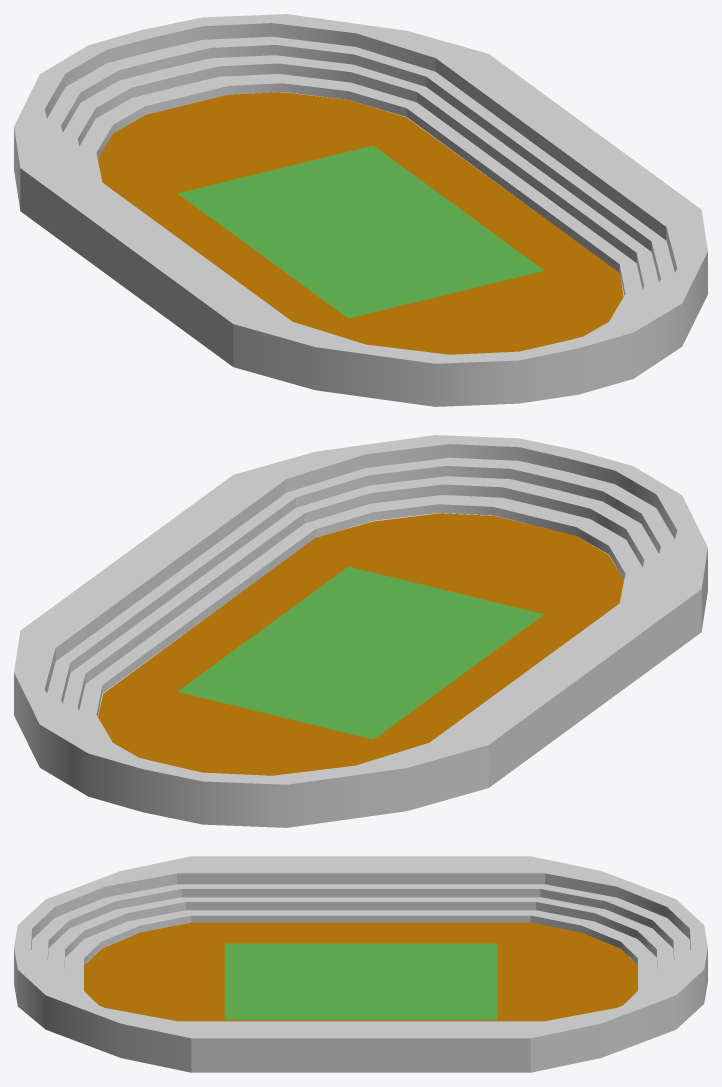
File: Stadium.fbx
3 views of the same model, one above another, from view 1: azimuth 30°, elevation 25°; view 2: azimuth 150°, elevation 25°; view 3: azimuth 270°, elevation 25° (orthographic). The views are drawn at different scales.
Parts seen in each view (by area): view 1: polySurface3, polySurface4; view 2: polySurface3, polySurface4; view 3: polySurface3, polySurface4.
Boxes of the visible parts, <box> form: polySurface3: <box>14,14,707,406</box>; polySurface4: <box>98,92,623,354</box>; polySurface3: <box>14,435,707,827</box>; polySurface4: <box>98,513,623,775</box>; polySurface3: <box>14,856,707,1072</box>; polySurface4: <box>84,922,637,1021</box>.
Bounding box in the file's own units: 348 × 32.97 × 560.
